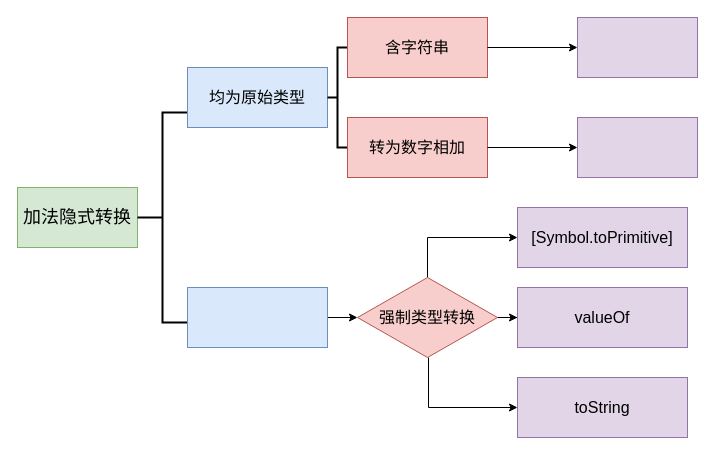
This 715x455 diagram has some shape labels left out. The centre of each missing label's shape, as x and y in pixels:
"含NaN, 结果为NaN" belongs at (x=637, y=147).
"含非原始类型" belongs at (x=257, y=317).
"转为字符串拼接" belongs at (x=637, y=47).
